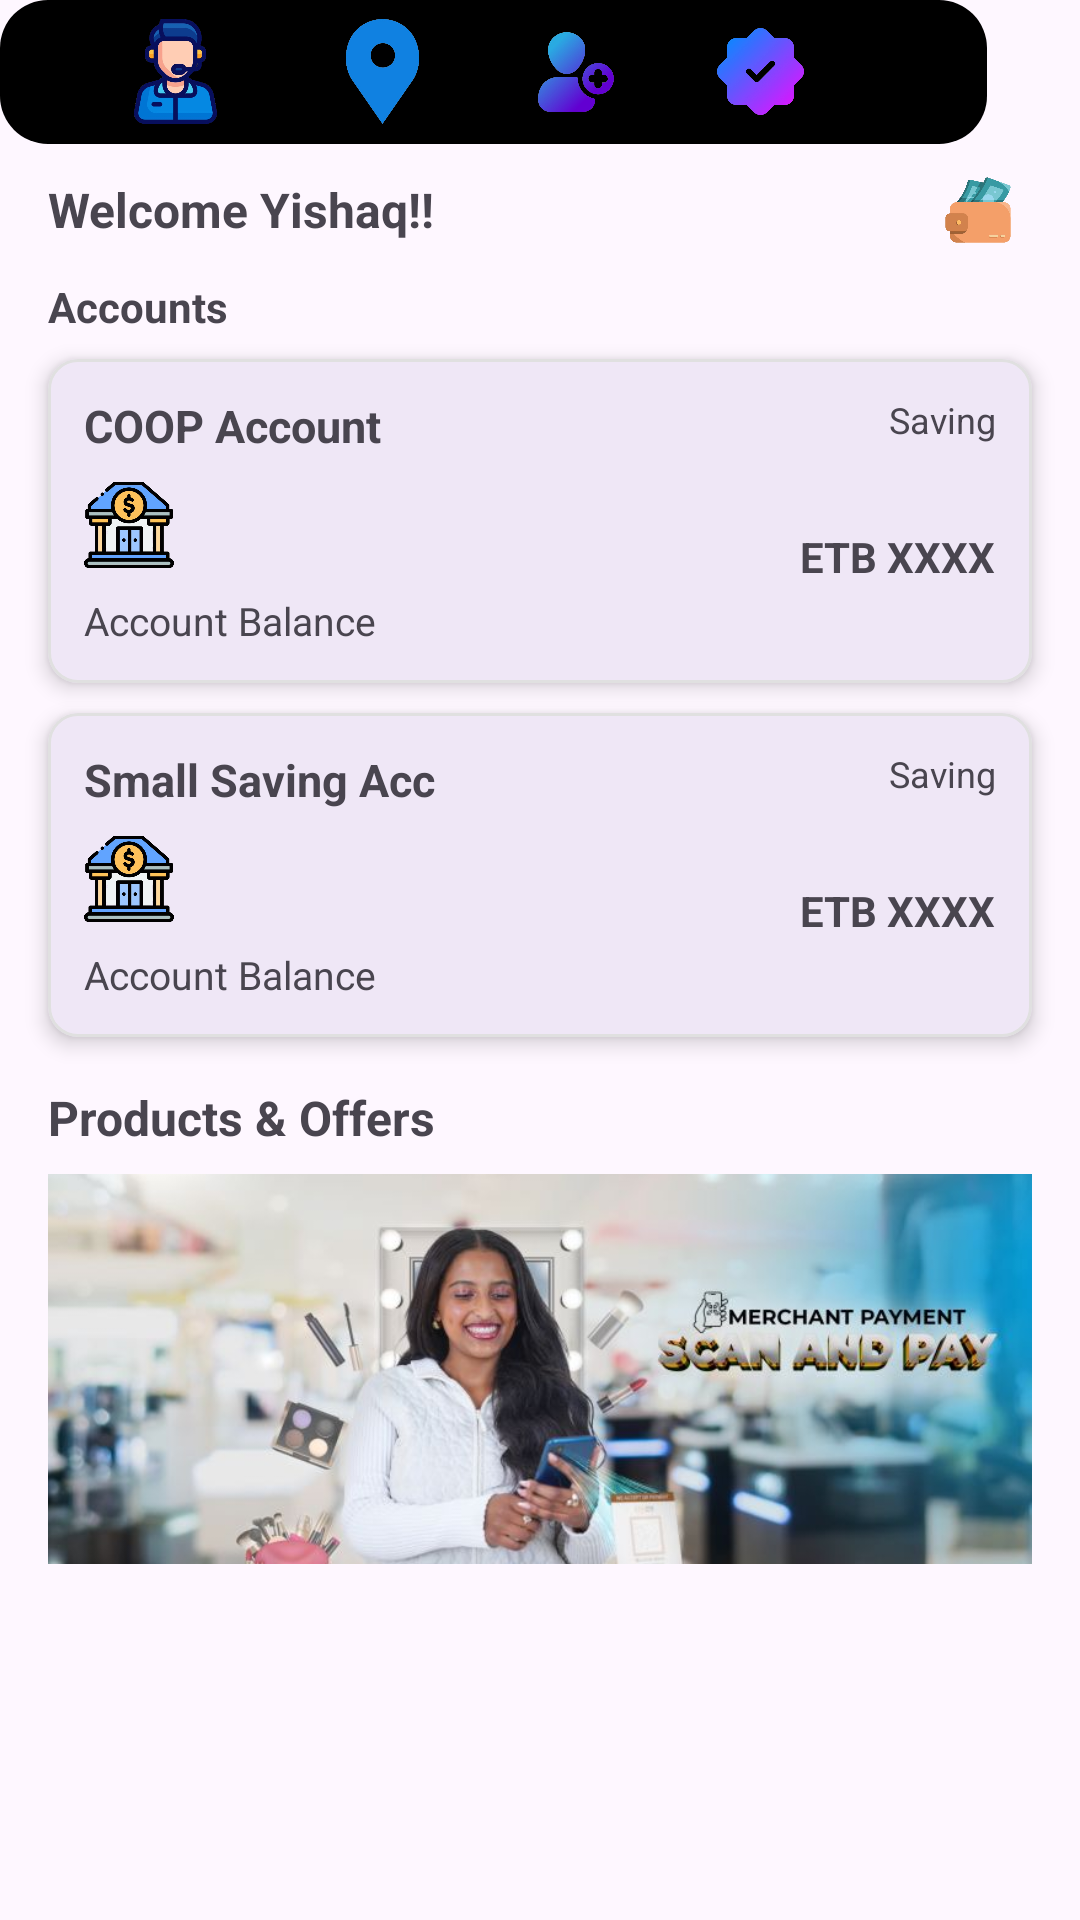

Icons on this 1080*1920 Android screen, each with its box as box=[x1, y1, x2, y2]:
balance: box=[945, 177, 1011, 243]
bank: box=[84, 482, 174, 568], box=[84, 836, 174, 922]
location: box=[346, 19, 419, 124]
register: box=[538, 32, 614, 112]
support: box=[134, 19, 217, 124]
verify: box=[717, 28, 804, 115]
